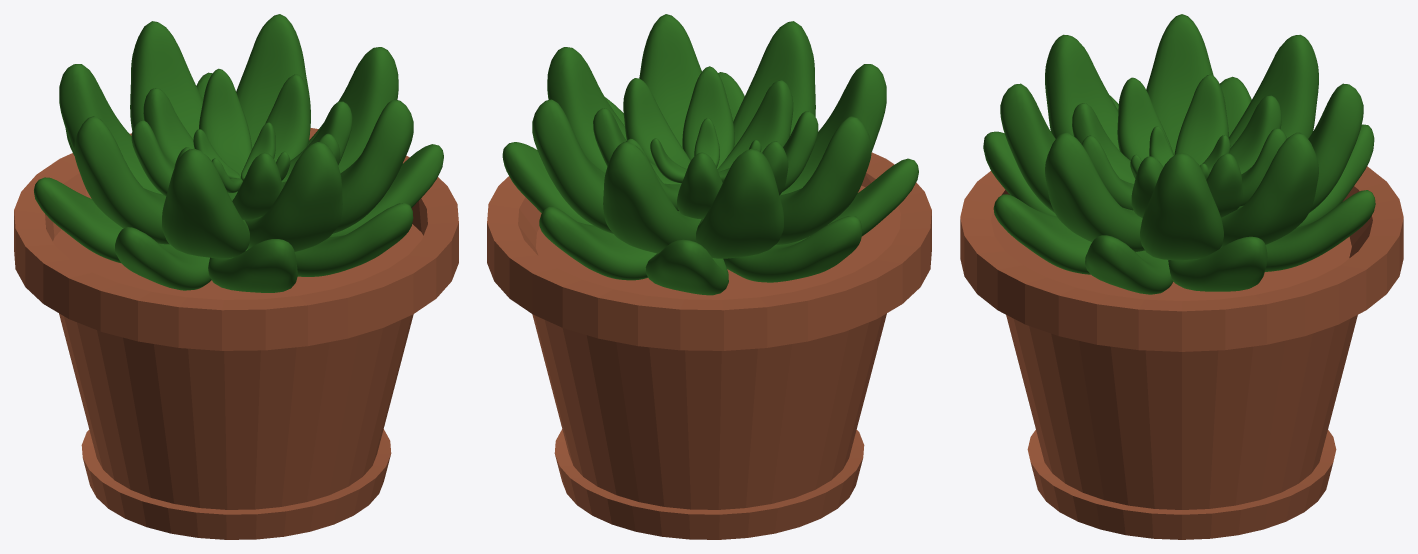
File: succulent3.glb
3 views of the same model, side by side, from view 1: azimuth 30°, elevation 25°; view 2: azimuth 150°, elevation 25°; view 3: azimuth 270°, elevation 25° (orthographic).
Parts seen in each view (by area): view 1: Cylinder, Cube.005, Cube.006, Cube.004, Cube.007, Cube.002, Cube.001, Cube.024, Cube, Cube.022, Cube.003, Cube.025 (+10 smaller); view 2: Cylinder, Cube.003, Cube.002, Cube.004, Cube.001, Cube.007, Cube.022, Cube.006, Cube.020, Cube, Cube.005, Cube.021 (+12 smaller); view 3: Cylinder, Cube, Cube.007, Cube.001, Cube.004, Cube.005, Cube.003, Cube.020, Cube.024, Cube.027, Cube.002, Cube.006 (+13 smaller).
Boxes of the visible parts, x1=… form: Cylinder: x1=14, y1=128, x2=458, y2=539; Cube.005: x1=162, y1=148, x2=249, y2=258; Cube.006: x1=245, y1=142, x2=342, y2=251; Cube.004: x1=74, y1=116, x2=169, y2=244; Cube.007: x1=332, y1=99, x2=413, y2=233; Cube.002: x1=130, y1=21, x2=202, y2=139; Cube.001: x1=236, y1=14, x2=310, y2=148; Cube.024: x1=294, y1=203, x2=413, y2=276; Cube: x1=308, y1=47, x2=398, y2=173; Cube.022: x1=34, y1=177, x2=123, y2=263; Cube.003: x1=59, y1=64, x2=162, y2=194; Cube.025: x1=208, y1=239, x2=297, y2=292; Cylinder: x1=487, y1=152, x2=931, y2=539; Cube.003: x1=696, y1=148, x2=783, y2=258; Cube.002: x1=603, y1=142, x2=701, y2=253; Cube.004: x1=775, y1=116, x2=871, y2=244; Cube.001: x1=532, y1=99, x2=613, y2=233; Cube.007: x1=639, y1=14, x2=701, y2=147; Cube.022: x1=723, y1=216, x2=862, y2=282; Cube.006: x1=733, y1=21, x2=815, y2=146; Cube.020: x1=539, y1=206, x2=656, y2=280; Cube: x1=547, y1=47, x2=626, y2=173; Cube.005: x1=780, y1=64, x2=886, y2=195; Cube.021: x1=645, y1=239, x2=728, y2=295; Cylinder: x1=960, y1=166, x2=1403, y2=539; Cube: x1=1140, y1=153, x2=1223, y2=260; Cube.007: x1=1045, y1=132, x2=1144, y2=252; Cube.001: x1=1220, y1=132, x2=1318, y2=248; Cube.004: x1=1146, y1=14, x2=1213, y2=154; Cube.005: x1=1045, y1=34, x2=1119, y2=150; Cube.003: x1=1229, y1=34, x2=1318, y2=148; Cube.020: x1=1265, y1=190, x2=1375, y2=271; Cube.024: x1=993, y1=194, x2=1091, y2=274; Cube.027: x1=1168, y1=236, x2=1267, y2=291; Cube.002: x1=1308, y1=83, x2=1363, y2=212; Cube.006: x1=1000, y1=83, x2=1055, y2=212.
Size of the model in its own units: 81.69 by 79.91 by 81.69.
